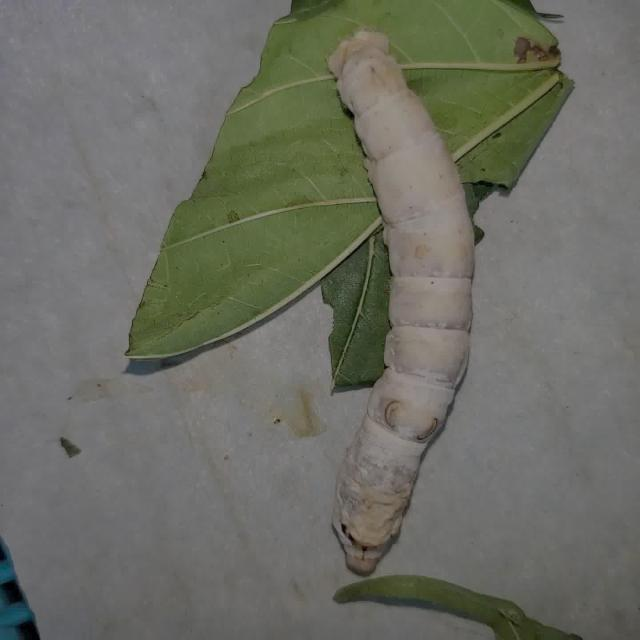Grasserie: (276, 11, 490, 579)
